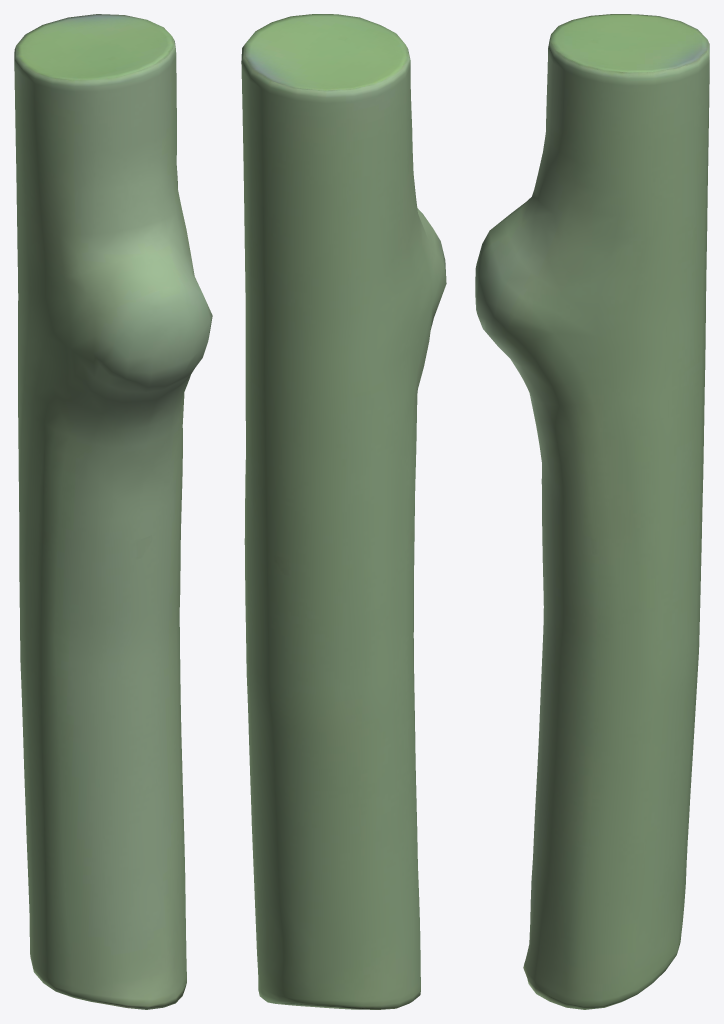
Rendered from stem_mid_1.glb.
3 renders of one model, left to right at view 1: azimuth 30°, elevation 25°; view 2: azimuth 150°, elevation 25°; view 3: azimuth 270°, elevation 25°, orthographic. The views are drawn at different scales.
Visible parts, largest first — view 1: tripo_node_f1372e97-9f34-49ed-a645-23a604090761; view 2: tripo_node_f1372e97-9f34-49ed-a645-23a604090761; view 3: tripo_node_f1372e97-9f34-49ed-a645-23a604090761.
Part boxes in pixels (x1,y1,x2,y2): tripo_node_f1372e97-9f34-49ed-a645-23a604090761: (14,14,212,1009); tripo_node_f1372e97-9f34-49ed-a645-23a604090761: (241,14,446,1009); tripo_node_f1372e97-9f34-49ed-a645-23a604090761: (475,14,709,1009).
Bounding box in the file's own units: 0.1559 × 0.9989 × 0.2258.
Materials: 1 (1 with a texture image).
